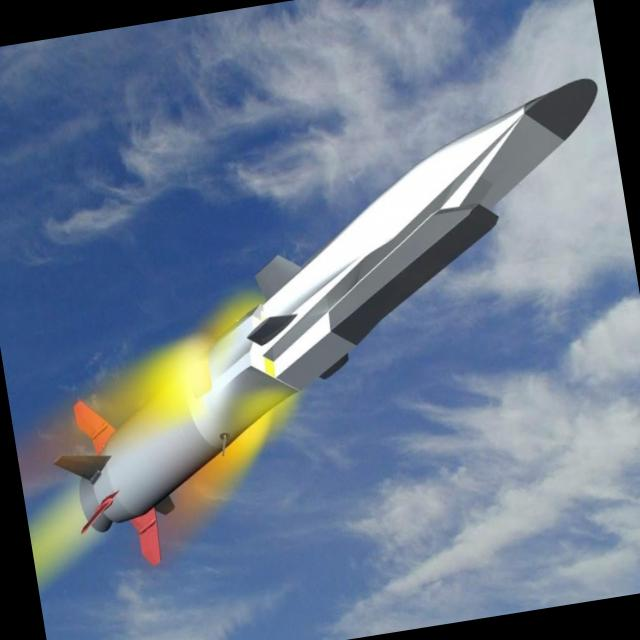rocket: (5, 67, 640, 580)
